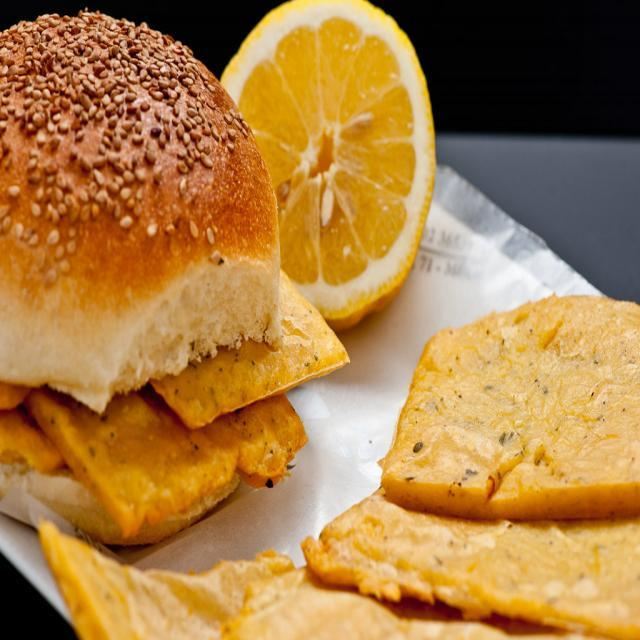Orange: (220, 6, 434, 338)
